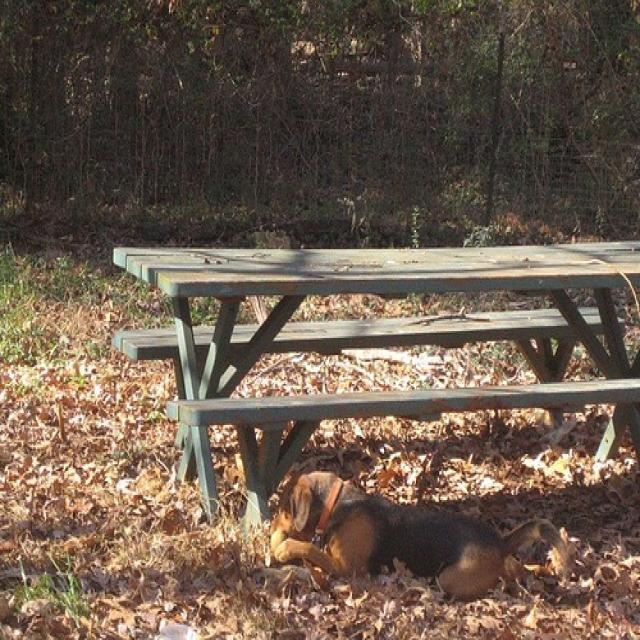dog: (262, 467, 540, 603)
